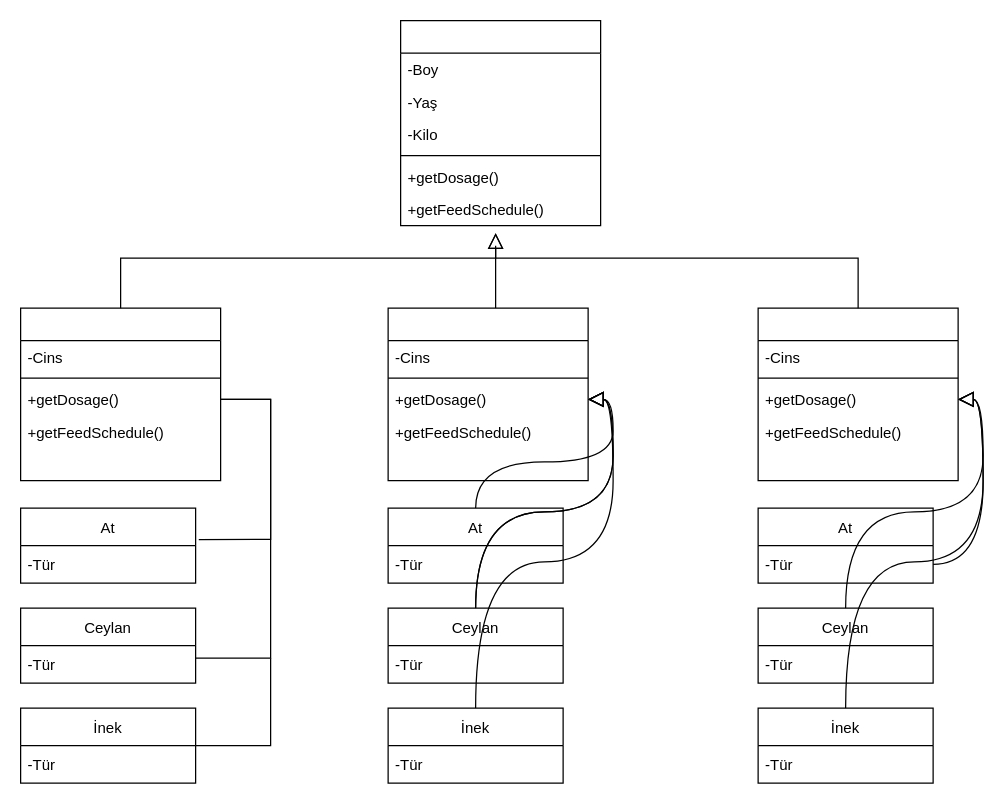
The diagram is 1004 pixels wide and 804 high, and some of its shapes have lost their labels. Each missing label, with the box of its shape:
Atlar: (19, 307, 221, 481)
Hayvanlar: (399, 19, 601, 226)
Sürüngen: (757, 307, 958, 481)
Yırtıcı: (387, 307, 588, 481)
